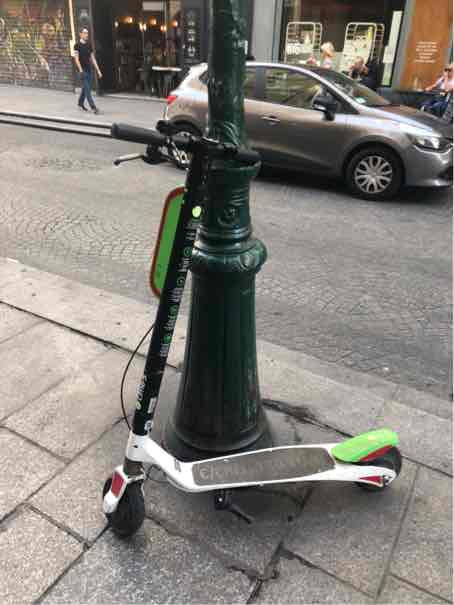scooter: (76, 103, 414, 546)
